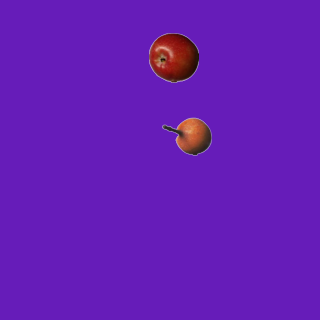Apple Braeburn: (148, 32, 198, 82)
Granadilla: (161, 111, 211, 161)
